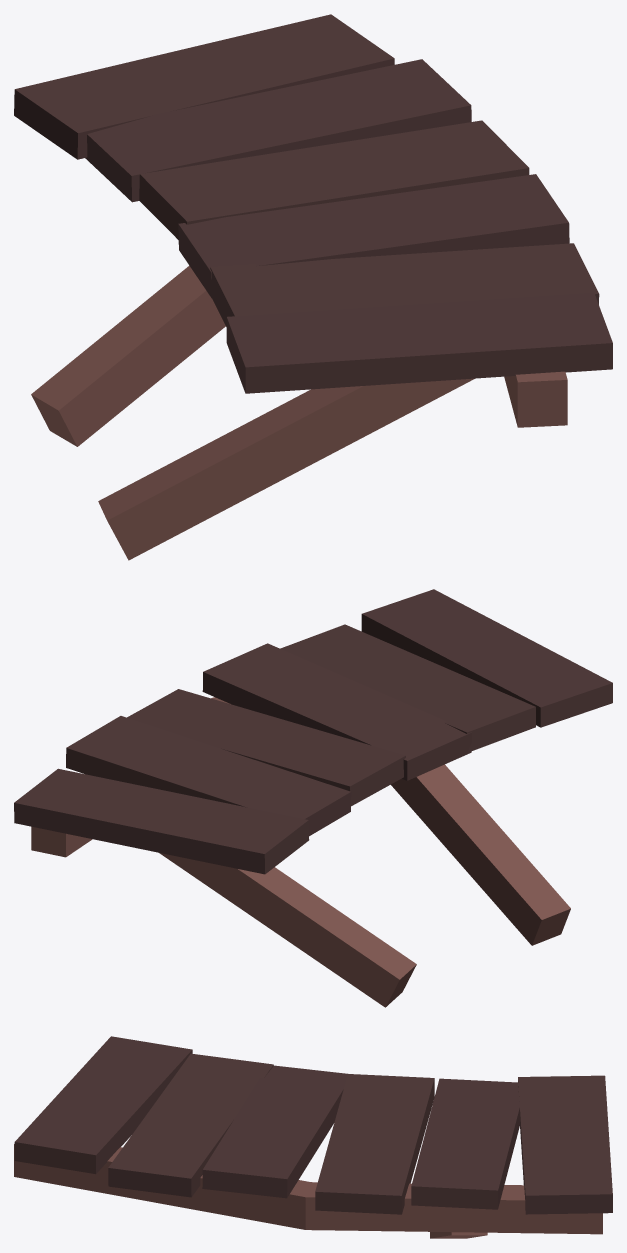
The model's file is DarkRoseWoodBuildingSmallSlightCurvePlatform1.fbx.
The picture shows the model from 3 angles, top to bottom: view 1: azimuth 30°, elevation 25°; view 2: azimuth 150°, elevation 25°; view 3: azimuth 270°, elevation 25°; orthographic projection. The views are drawn at different scales.
Visible parts, largest first — view 1: DarkRoseWoodBuildingSmallSlightCurvePlatform1; view 2: DarkRoseWoodBuildingSmallSlightCurvePlatform1; view 3: DarkRoseWoodBuildingSmallSlightCurvePlatform1.
Part boxes in pixels (x1=…): DarkRoseWoodBuildingSmallSlightCurvePlatform1: x1=14, y1=14, x2=612, y2=560; DarkRoseWoodBuildingSmallSlightCurvePlatform1: x1=14, y1=589, x2=612, y2=1007; DarkRoseWoodBuildingSmallSlightCurvePlatform1: x1=14, y1=1036, x2=612, y2=1238.
Size of the model in its own units: 409 by 208 by 604.
